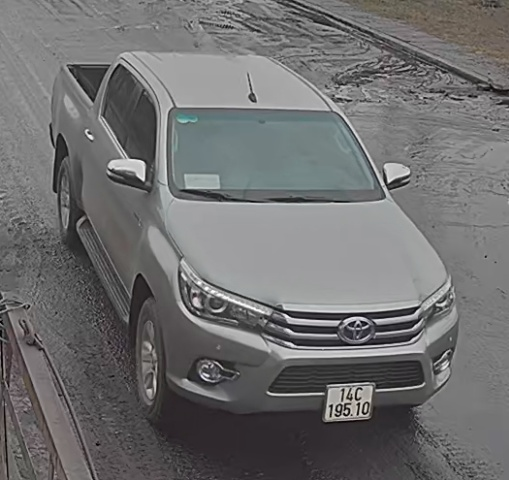vehicle plate: (322, 378, 377, 426)
